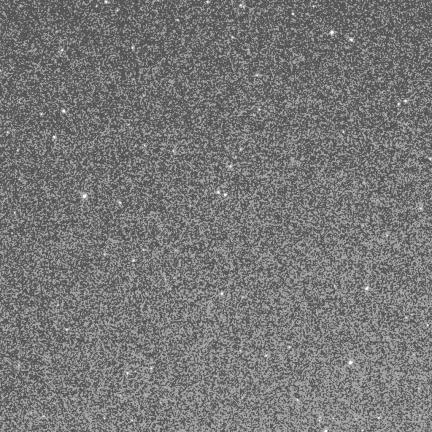blob: (224, 193, 422, 210), (53, 135, 57, 140), (365, 287, 370, 291), (83, 194, 87, 198), (217, 191, 221, 195), (330, 31, 334, 35), (221, 292, 224, 296), (258, 108, 261, 112), (62, 109, 65, 113), (292, 12, 295, 16), (127, 372, 130, 376), (350, 38, 353, 41), (265, 355, 268, 358), (133, 260, 136, 263), (404, 100, 407, 103), (349, 361, 352, 364), (230, 165, 233, 168), (398, 103, 401, 106), (420, 207, 422, 211), (105, 0, 107, 4), (119, 201, 121, 204)
